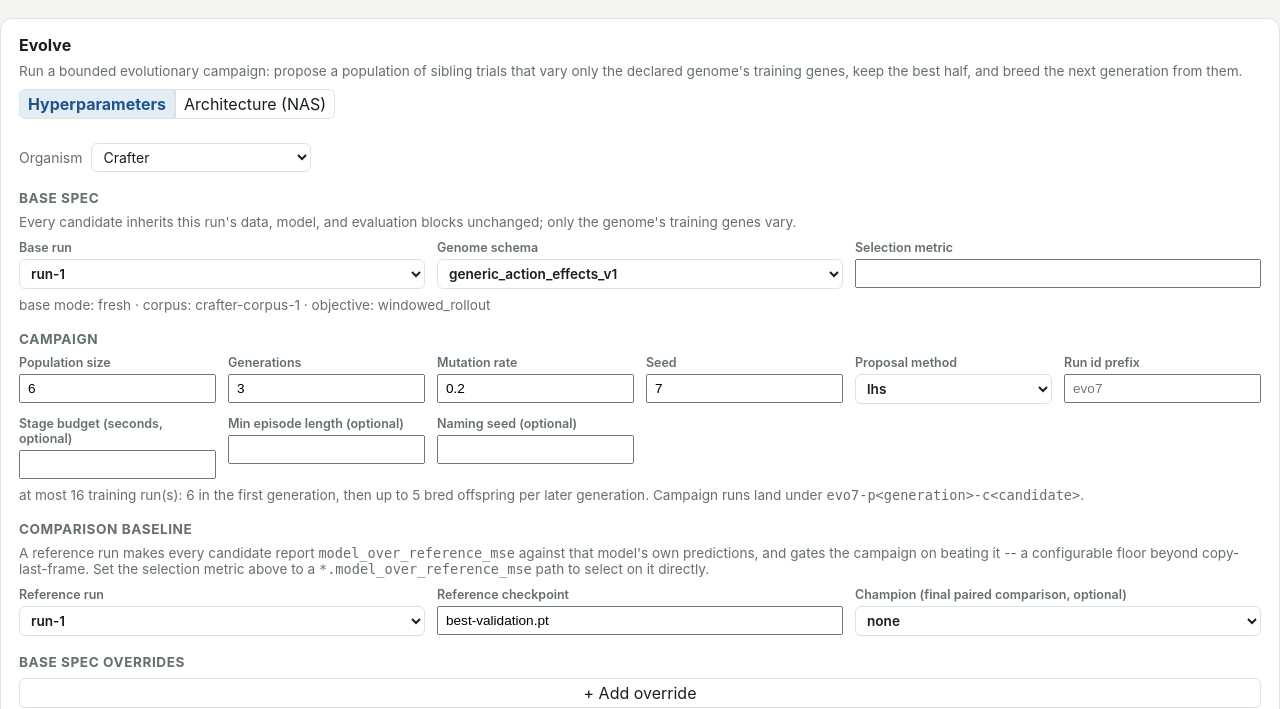
EvolvePanel › architecture (NAS) mode › offers the architecture schema registry, kept separate from the training one
The width and height of the screenshot is (1280, 709).
Expected: the dropdown labelled "Base run" shows "run-1", [19,259,425,289]
Click the button "Architecture (NAS)": (255, 104) [175,89,335,119]
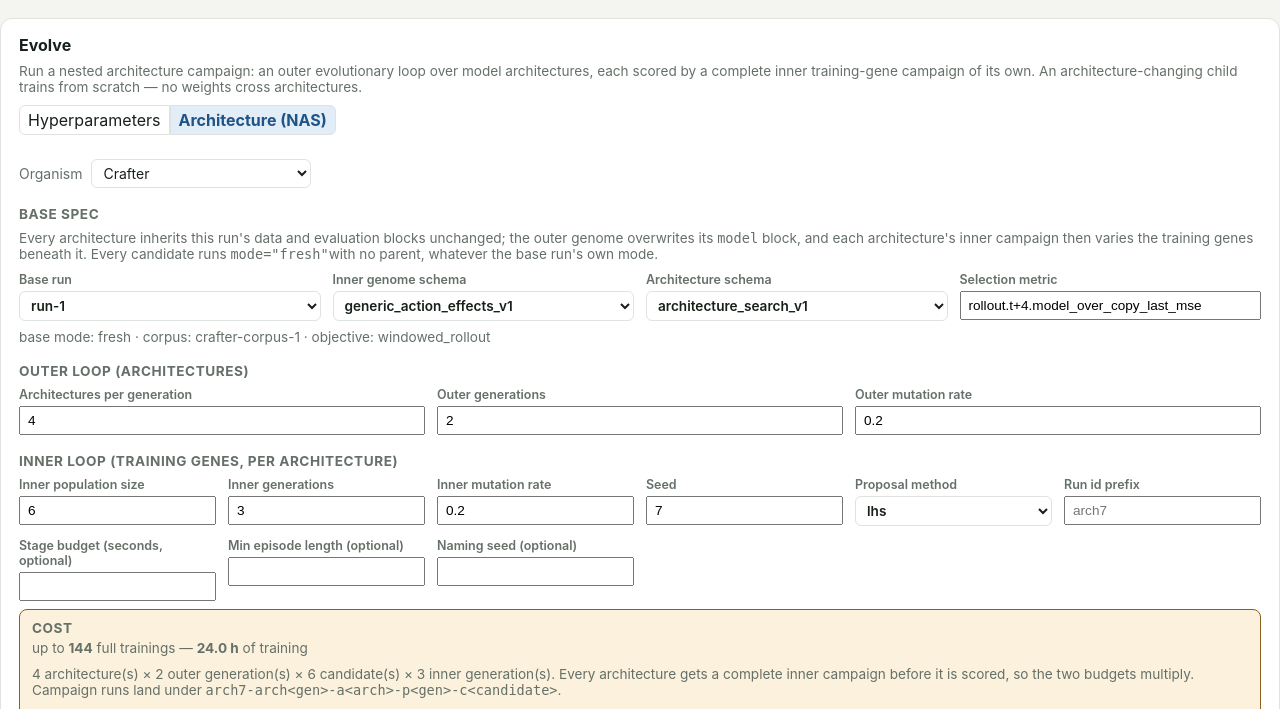
Expected: the dropdown labelled "Architecture schema" is shown, [646,291,948,321]
